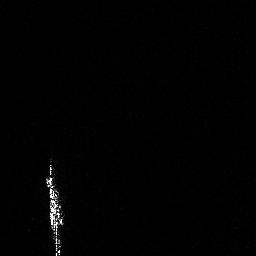ship: (43, 159, 67, 256)
